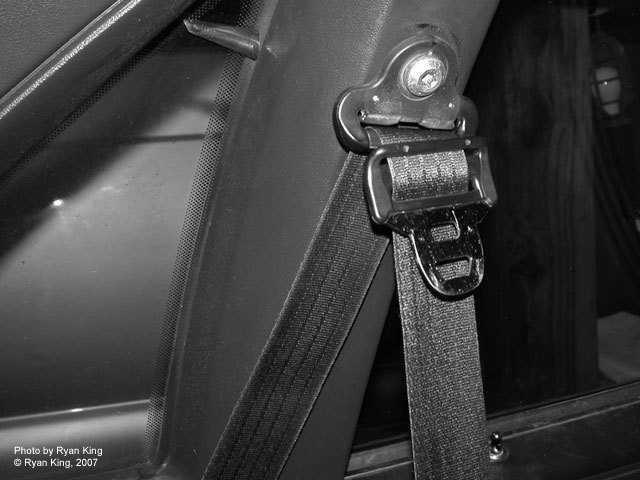SafeDriving: (0, 416, 160, 480)
Seatbelt: (198, 30, 494, 480)
